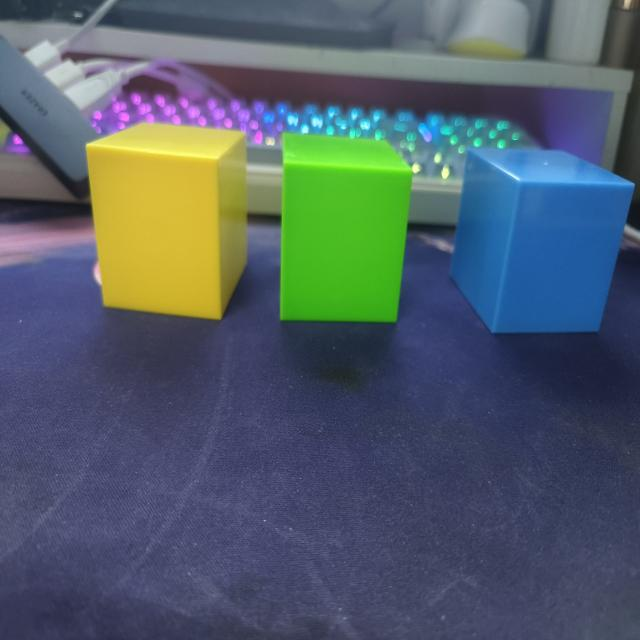blue: (449, 148, 634, 337)
green: (278, 134, 414, 326)
yellow: (84, 124, 249, 323)
